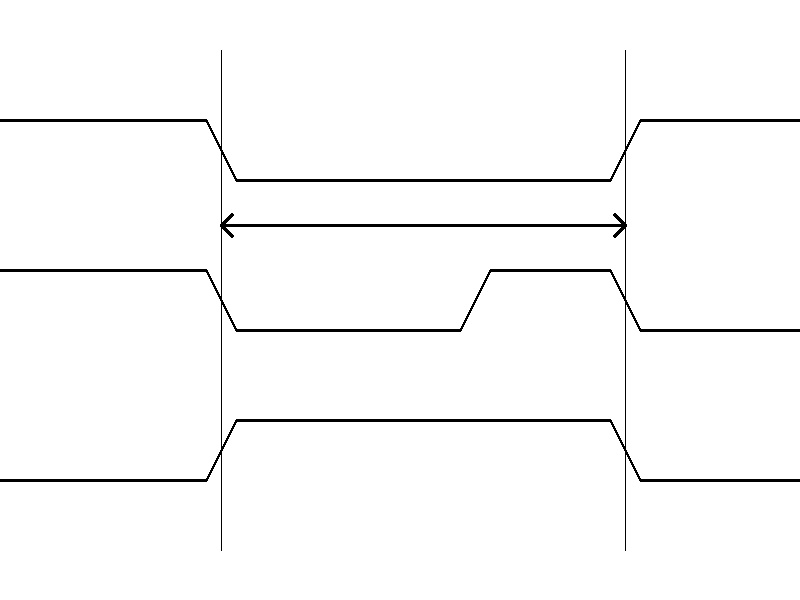double_arrow: (221, 210, 625, 240)
